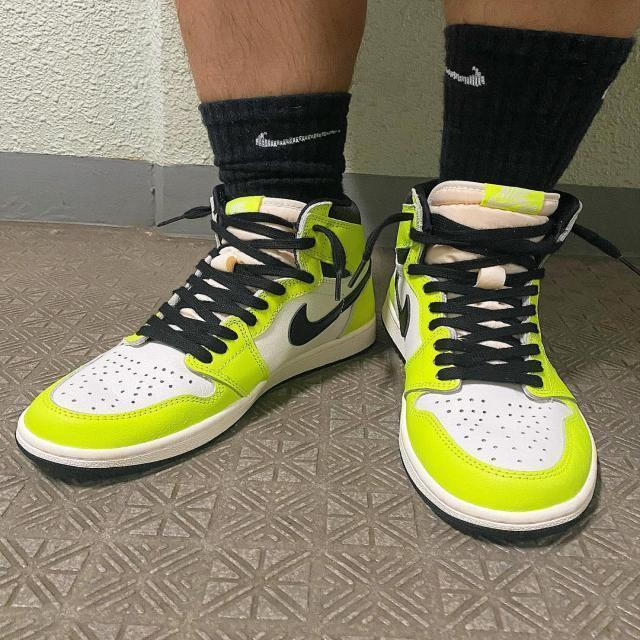nike original jordan 1: (12, 186, 390, 474), (376, 182, 597, 540)
